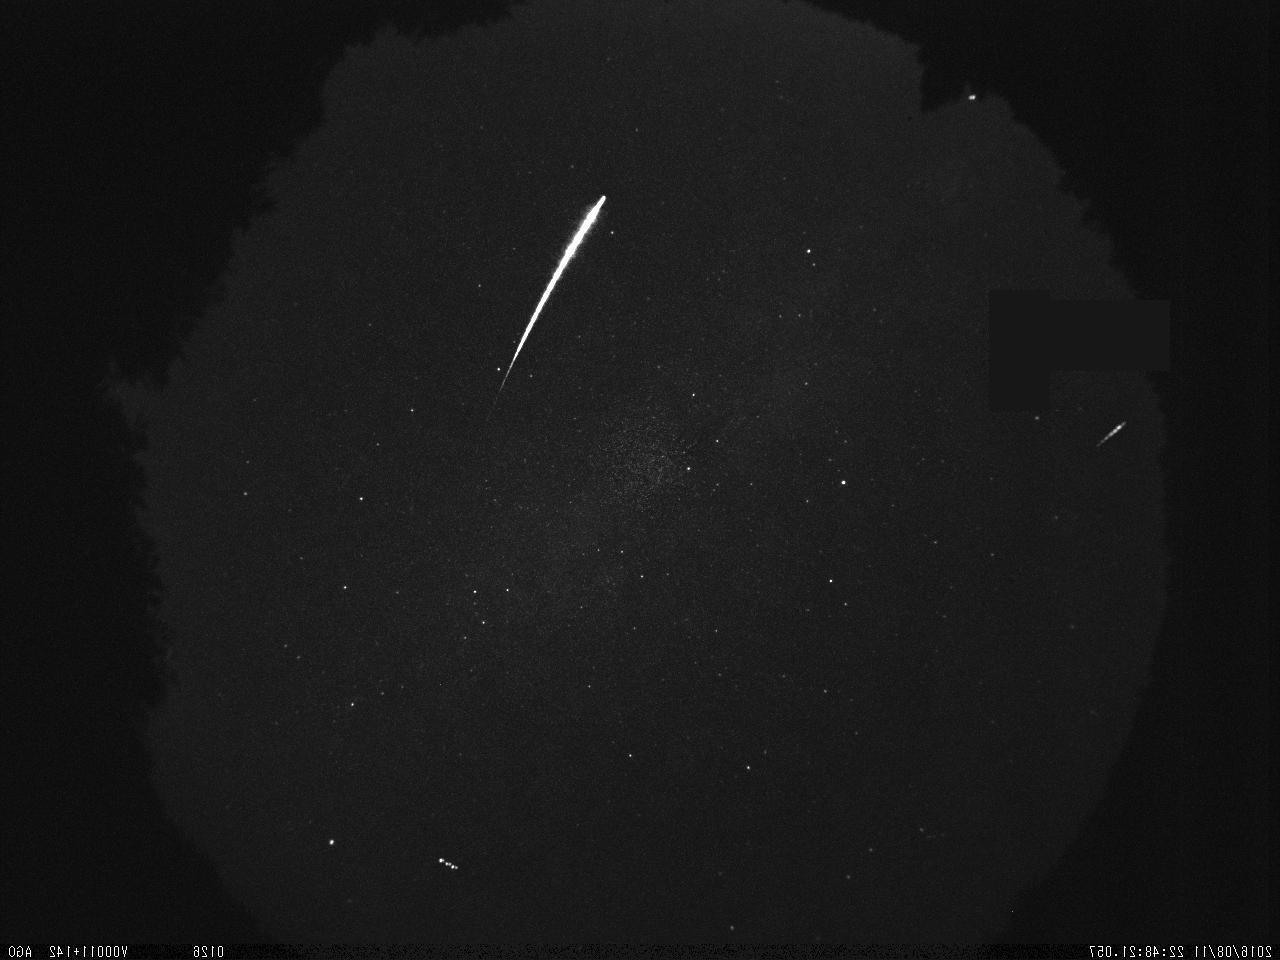meteor: (484, 185, 612, 403), (1092, 415, 1135, 454)
satelite: (433, 848, 466, 882)
